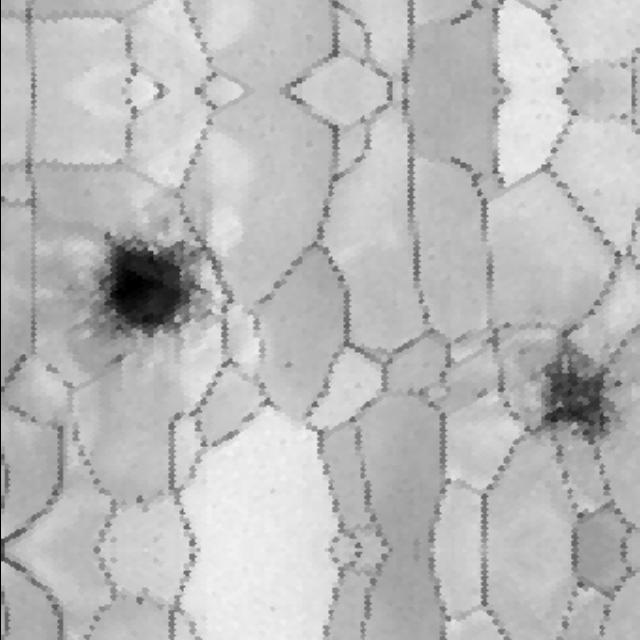good_void: (73, 221, 224, 353), (517, 314, 639, 456), (104, 348, 131, 373), (129, 584, 149, 608), (129, 491, 149, 514), (279, 356, 297, 374)
